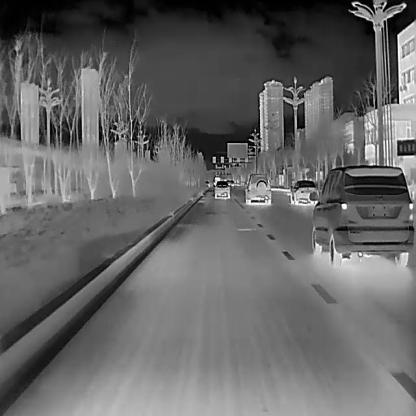car: (308, 163, 413, 266), (244, 172, 270, 203), (290, 180, 319, 204), (213, 181, 230, 199)
